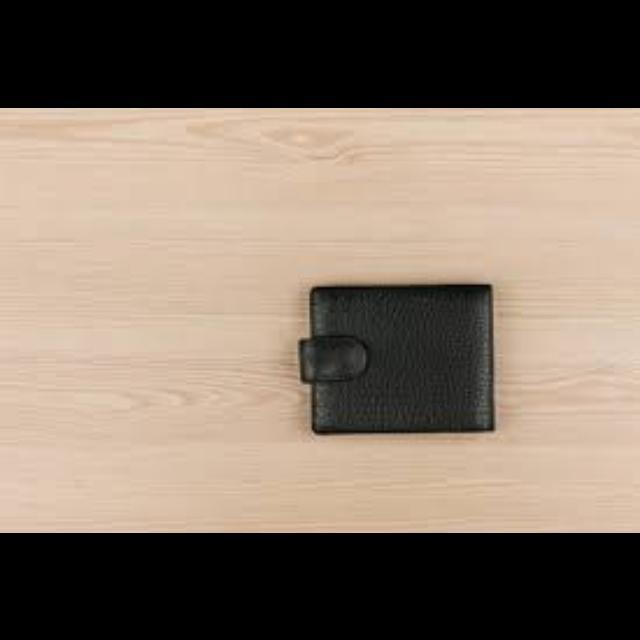wallet: (254, 207, 522, 488)
